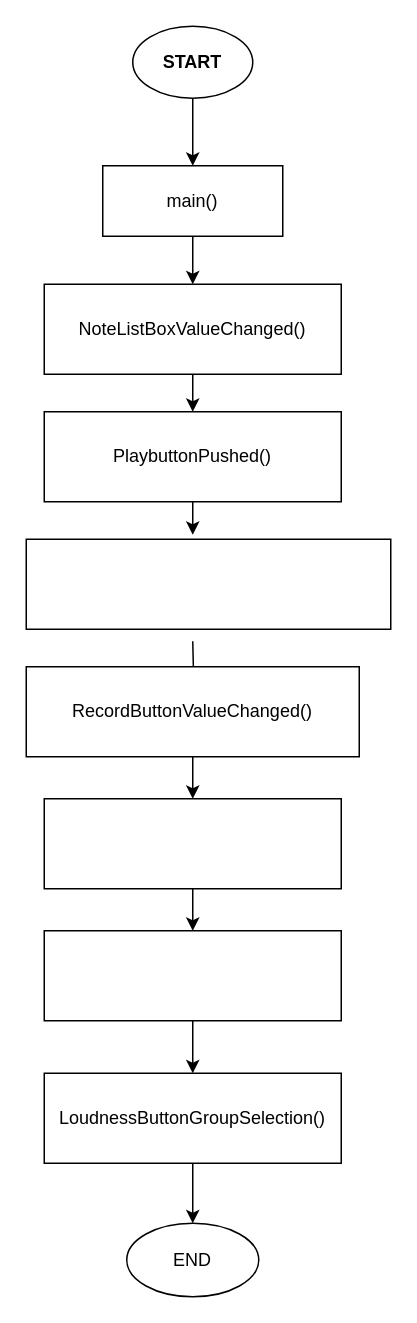
This 417x1323 diagram has some shape labels left out. Each missing label, with the centre of its shape:
ClearButtonPushed(): the point at 192,843
Durationbuttongroupselectionchanged(): the point at 208,583
SaveasButtonpushed(): the point at 192,975
